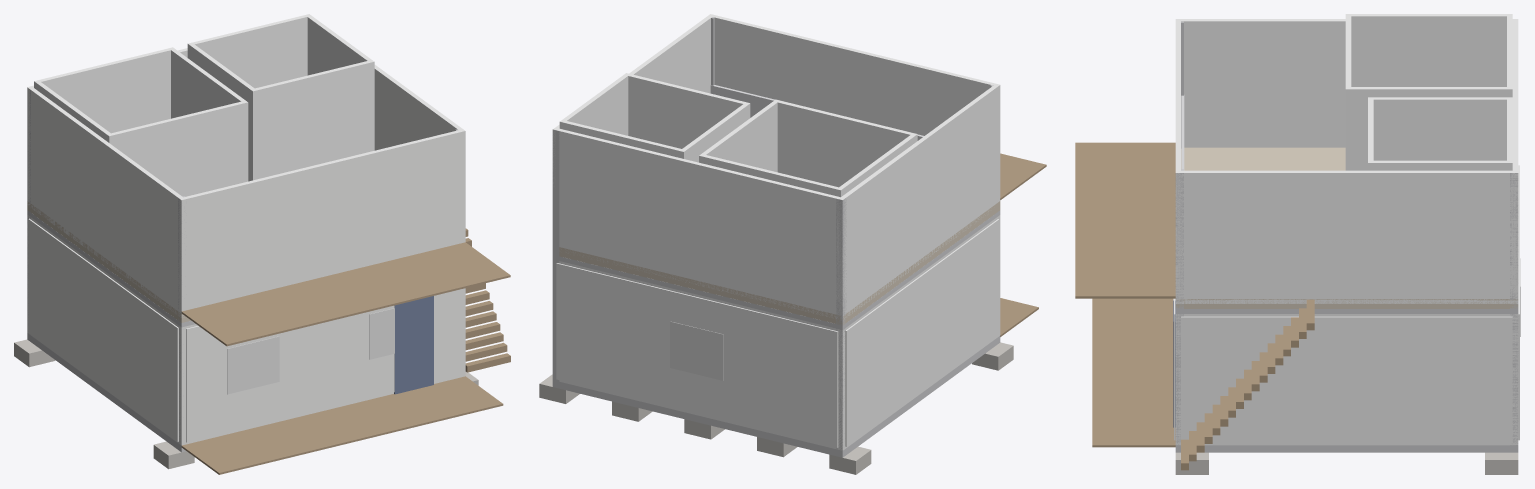
Rendered from Duplex-20-FullSolar-LOD2.glb.
3 views of the same model, side by side, from view 1: azimuth 30°, elevation 25°; view 2: azimuth 150°, elevation 25°; view 3: azimuth 270°, elevation 25° (orthographic). The views are drawn at different scales.
Visible parts, largest first — view 1: ExteriorShellUpper, ExteriorPanelsStandard, StudyUpper, BedroomUpper, BalconyUpper, BalconyGround, WindowsStandard, EntryDoor, StaircaseExternal, ExteriorShell, FoundationBlocks, FloorUpper (+2 smaller); view 2: ExteriorShellUpper, ExteriorPanelsStandard, BedroomUpper, StudyUpper, FloorUpper, VerticalStructure, FoundationBlocks, BaseFrame, ExteriorShell, WindowsStandard, TopFrame, BalconyUpper (+2 smaller); view 3: ExteriorShellUpper, ExteriorPanelsStandard, BalconyUpper, BedroomUpper, BalconyGround, StudyUpper, FloorUpper, StaircaseExternal, ExteriorShell, VerticalStructure, BaseFrame, TopFrame (+1 smaller).
Part boxes in pixels (x1,y1,x2,y2): ExteriorShellUpper: (27, 48, 465, 317); ExteriorPanelsStandard: (28, 218, 461, 442); StudyUpper: (187, 14, 374, 181); BedroomUpper: (34, 47, 248, 196); BalconyUpper: (181, 242, 510, 346); BalconyGround: (181, 376, 503, 474); WindowsStandard: (227, 308, 394, 394); EntryDoor: (394, 296, 433, 394); StaircaseExternal: (465, 228, 510, 372); ExteriorShell: (27, 215, 465, 445); FoundationBlocks: (14, 339, 478, 469); FloorUpper: (27, 201, 190, 322); ExteriorShellUpper: (552, 14, 1000, 319); ExteriorPanelsStandard: (556, 219, 999, 447); BedroomUpper: (699, 99, 917, 197); StudyUpper: (559, 73, 750, 162); FloorUpper: (559, 201, 1000, 325); VerticalStructure: (552, 17, 998, 450); FoundationBlocks: (539, 342, 1013, 474); BaseFrame: (552, 336, 1000, 457); ExteriorShell: (559, 215, 1000, 450); WindowsStandard: (670, 321, 723, 380); TopFrame: (559, 210, 1000, 329); BalconyUpper: (1000, 153, 1046, 199); ExteriorShellUpper: (1175, 19, 1518, 303); ExteriorPanelsStandard: (1174, 165, 1519, 443); BalconyUpper: (1075, 142, 1175, 298); BedroomUpper: (1345, 14, 1512, 170); BalconyGround: (1092, 298, 1175, 447); StudyUpper: (1368, 97, 1512, 170); FloorUpper: (1175, 147, 1518, 308); StaircaseExternal: (1181, 299, 1314, 470); ExteriorShell: (1175, 314, 1518, 445); VerticalStructure: (1175, 21, 1518, 445); BaseFrame: (1175, 445, 1518, 452); TopFrame: (1175, 309, 1518, 313).
Bounding box in the file's own units: 7.94 × 6 × 8.
